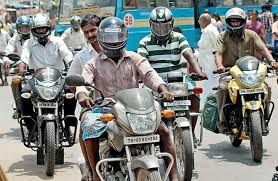helmet: (95, 16, 128, 56), (148, 5, 175, 39), (224, 5, 248, 34), (30, 13, 52, 39), (14, 13, 32, 39)
